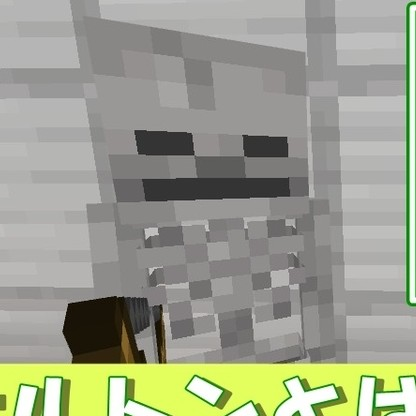skeleton: (65, 13, 349, 281)
